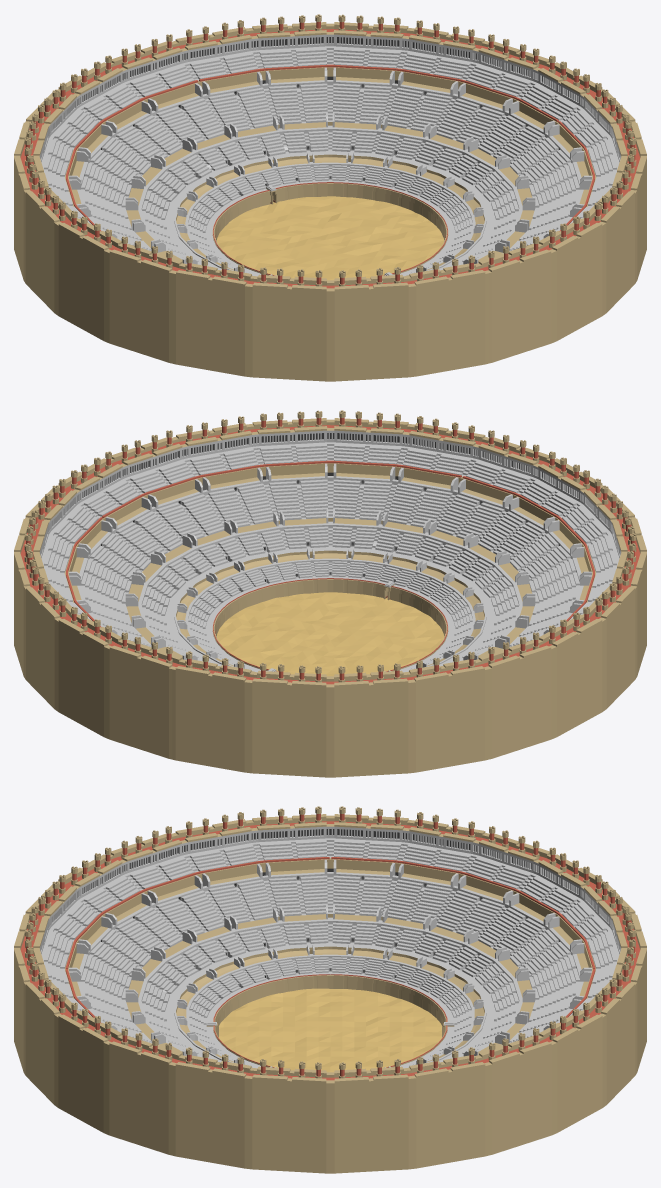
The model's file is colosseum.fbx.
3 views of the same model, one above another, from view 1: azimuth 30°, elevation 25°; view 2: azimuth 150°, elevation 25°; view 3: azimuth 270°, elevation 25° (orthographic).
Visible parts, largest first — view 1: colosseum, floor, wall; view 2: colosseum, floor, wall; view 3: colosseum, floor, wall.
Boxes of the visible parts, bbox=[...] form: colosseum: bbox=[14, 14, 646, 381]; floor: bbox=[215, 196, 445, 280]; wall: bbox=[216, 187, 444, 241]; colosseum: bbox=[14, 410, 646, 777]; floor: bbox=[215, 592, 445, 676]; wall: bbox=[216, 583, 444, 637]; colosseum: bbox=[14, 806, 646, 1173]; floor: bbox=[219, 988, 442, 1072]; wall: bbox=[217, 980, 443, 1037].
Size of the model in its own units: 64621 by 11736 by 64632.
